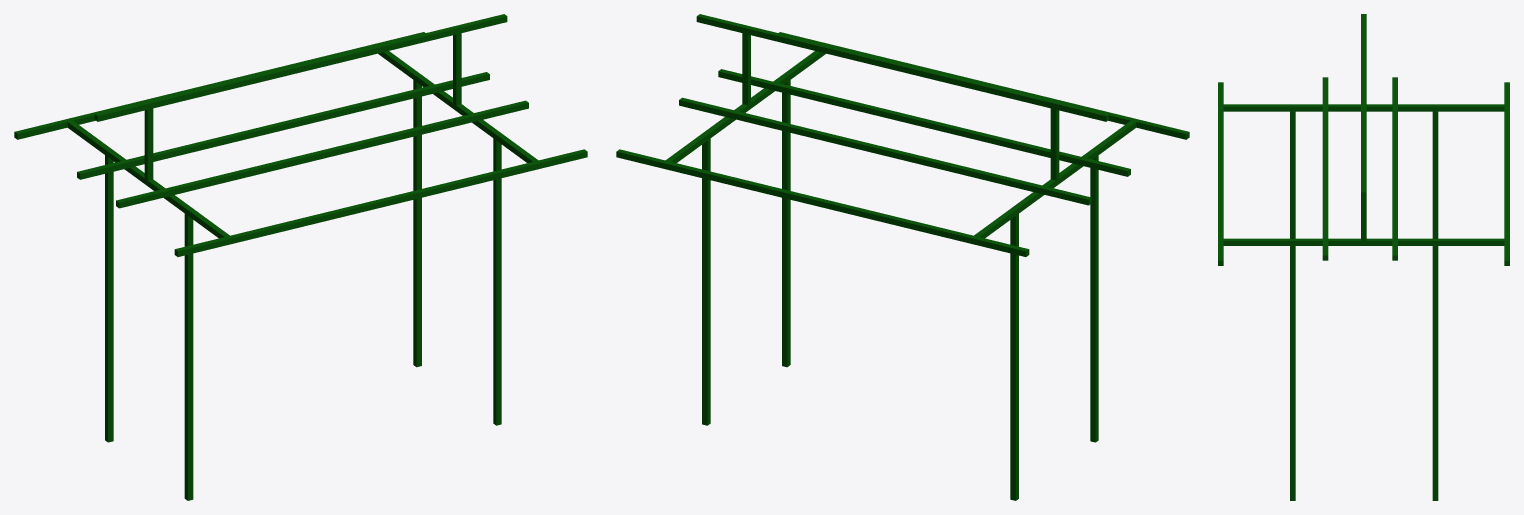
Rendered from Structure02.FBX.
3 renders of one model, left to right at view 1: azimuth 30°, elevation 25°; view 2: azimuth 150°, elevation 25°; view 3: azimuth 270°, elevation 25°, orthographic. The views are drawn at different scales.
Visible parts, largest first — view 1: SM_structure02_0; view 2: SM_structure02_0; view 3: SM_structure02_0.
Boxes of the visible parts, left/top/right/bottom form: SM_structure02_0: left=14, top=14, right=587, bottom=500; SM_structure02_0: left=616, top=14, right=1189, bottom=500; SM_structure02_0: left=1218, top=14, right=1509, bottom=500.
Bounding box in the file's own units: 300 × 207 × 257.
